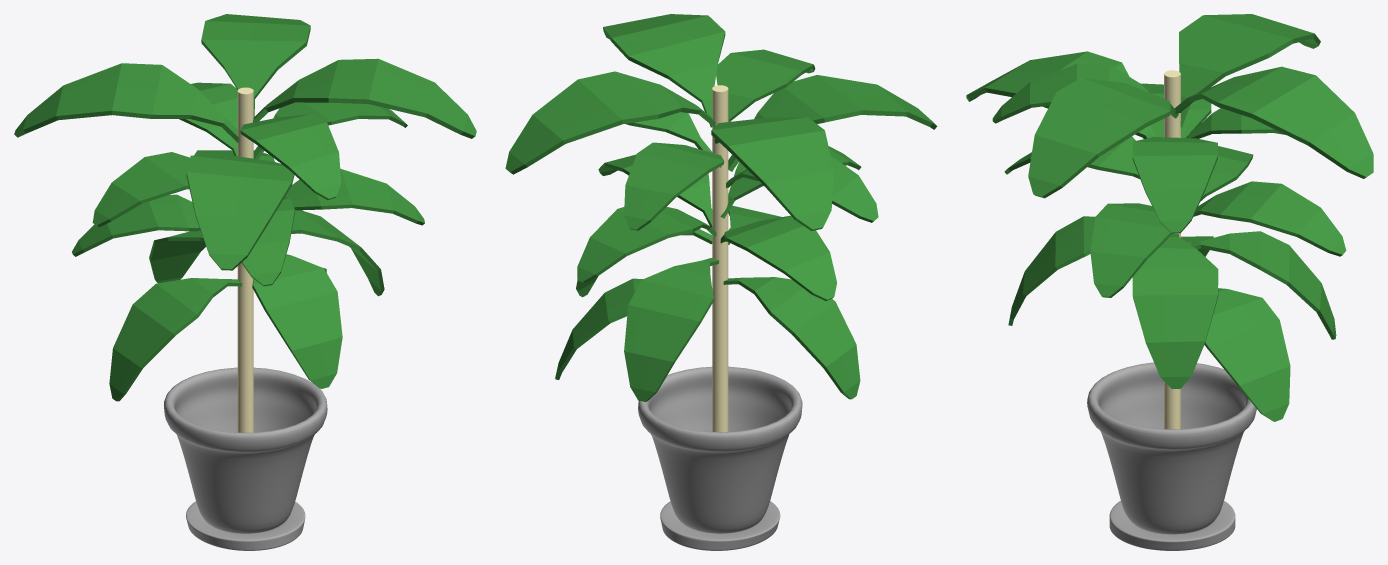
The model's file is plant_medium.fbx.
3 views of the same model, side by side, from view 1: azimuth 30°, elevation 25°; view 2: azimuth 150°, elevation 25°; view 3: azimuth 270°, elevation 25° (orthographic). The views are drawn at different scales.
Parts seen in each view (by area): view 1: mediumplant; view 2: mediumplant; view 3: mediumplant.
Part boxes in pixels (<box>): mediumplant: <box>14,14,476,550</box>; mediumplant: <box>505,14,937,550</box>; mediumplant: <box>966,14,1373,550</box>.
Bounding box in the file's own units: 22.74 × 29.75 × 22.99.
